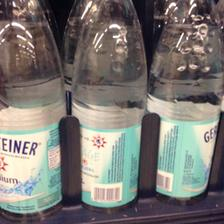Wasser: (64, 0, 146, 212), (146, 0, 222, 208), (0, 0, 64, 220)
